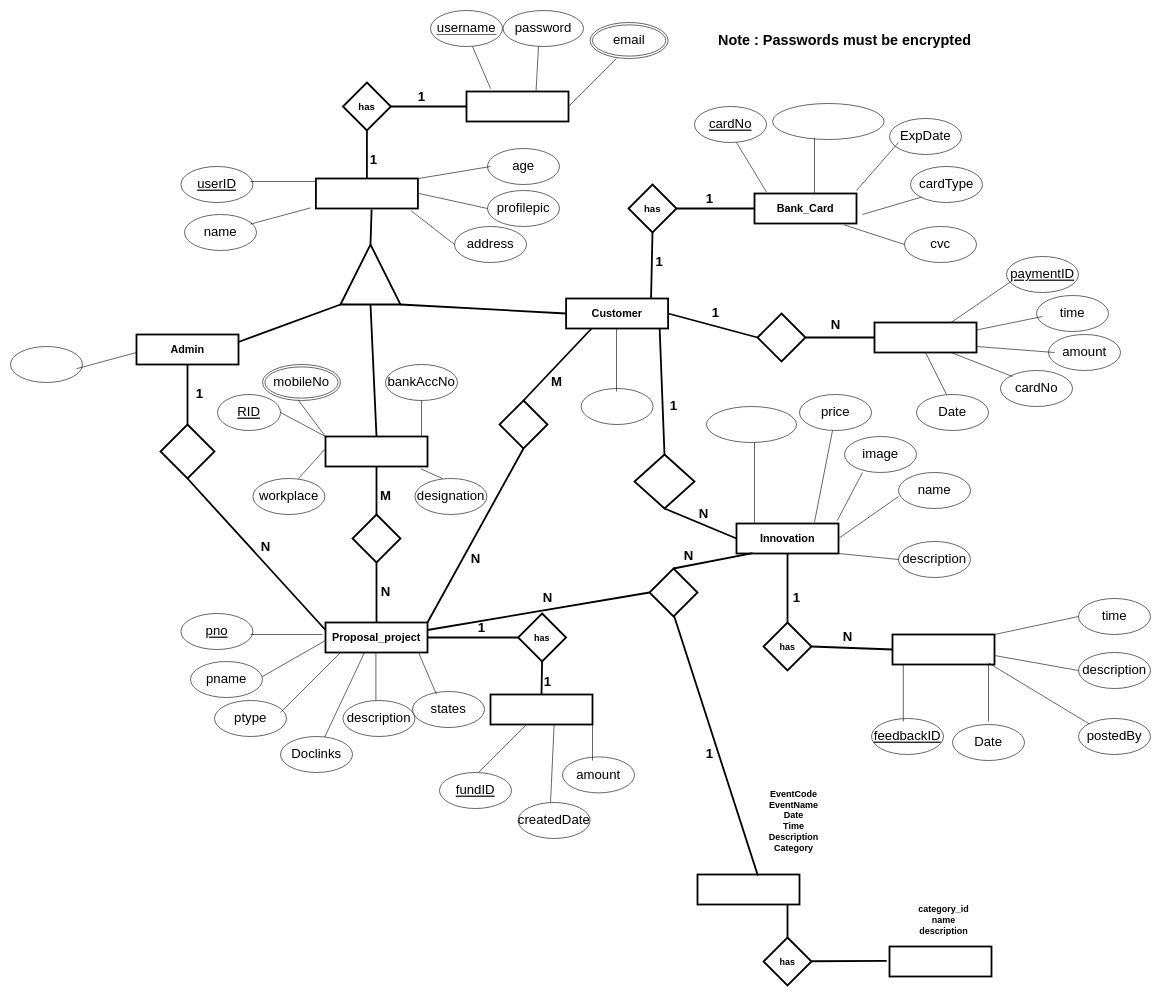
This 1161x997 diagram has some shape labels left out. Here are the shapes that lost their labels. From the top down, the centre of each, then its label:
pixel 517 106: Login
pixel 828 121: cardholderName
pixel 366 193: User
pixel 370 274: ISA
pixel 781 337: make
pixel 925 337: Payment
pixel 46 364: Nic
pixel 523 424: donate
pixel 616 406: postalCode
pixel 751 424: InnovationID
pixel 187 451: Approve
pixel 376 451: Researcher
pixel 664 481: Purchase
pixel 376 538: post
pixel 673 592: promote
pixel 943 649: Feedback
pixel 541 709: Fund
pixel 748 889: Event
pixel 940 961: Event_category
